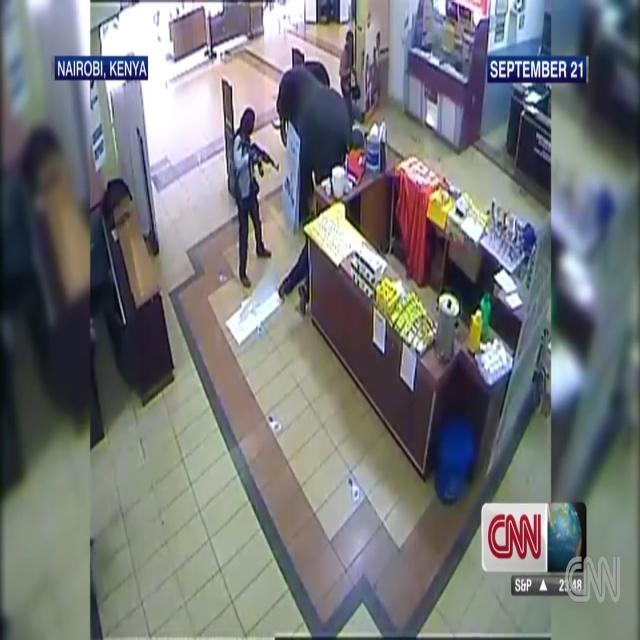Weapon: (234, 119, 288, 194)
